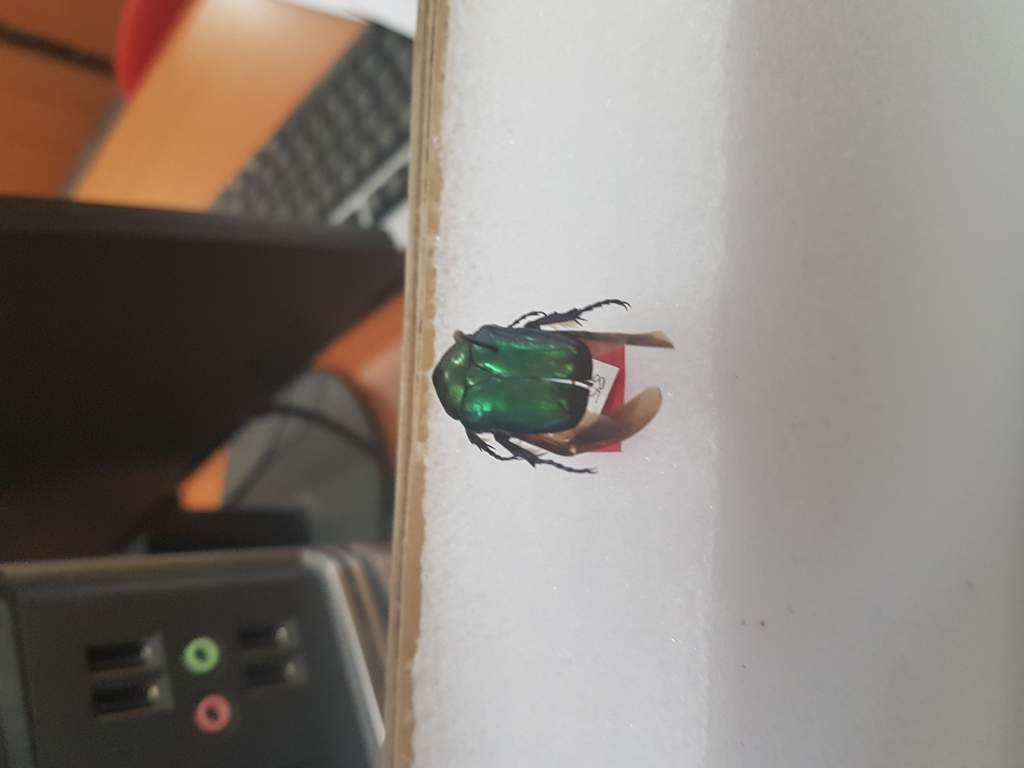Protaetia_besucheti: (431, 295, 691, 475)
